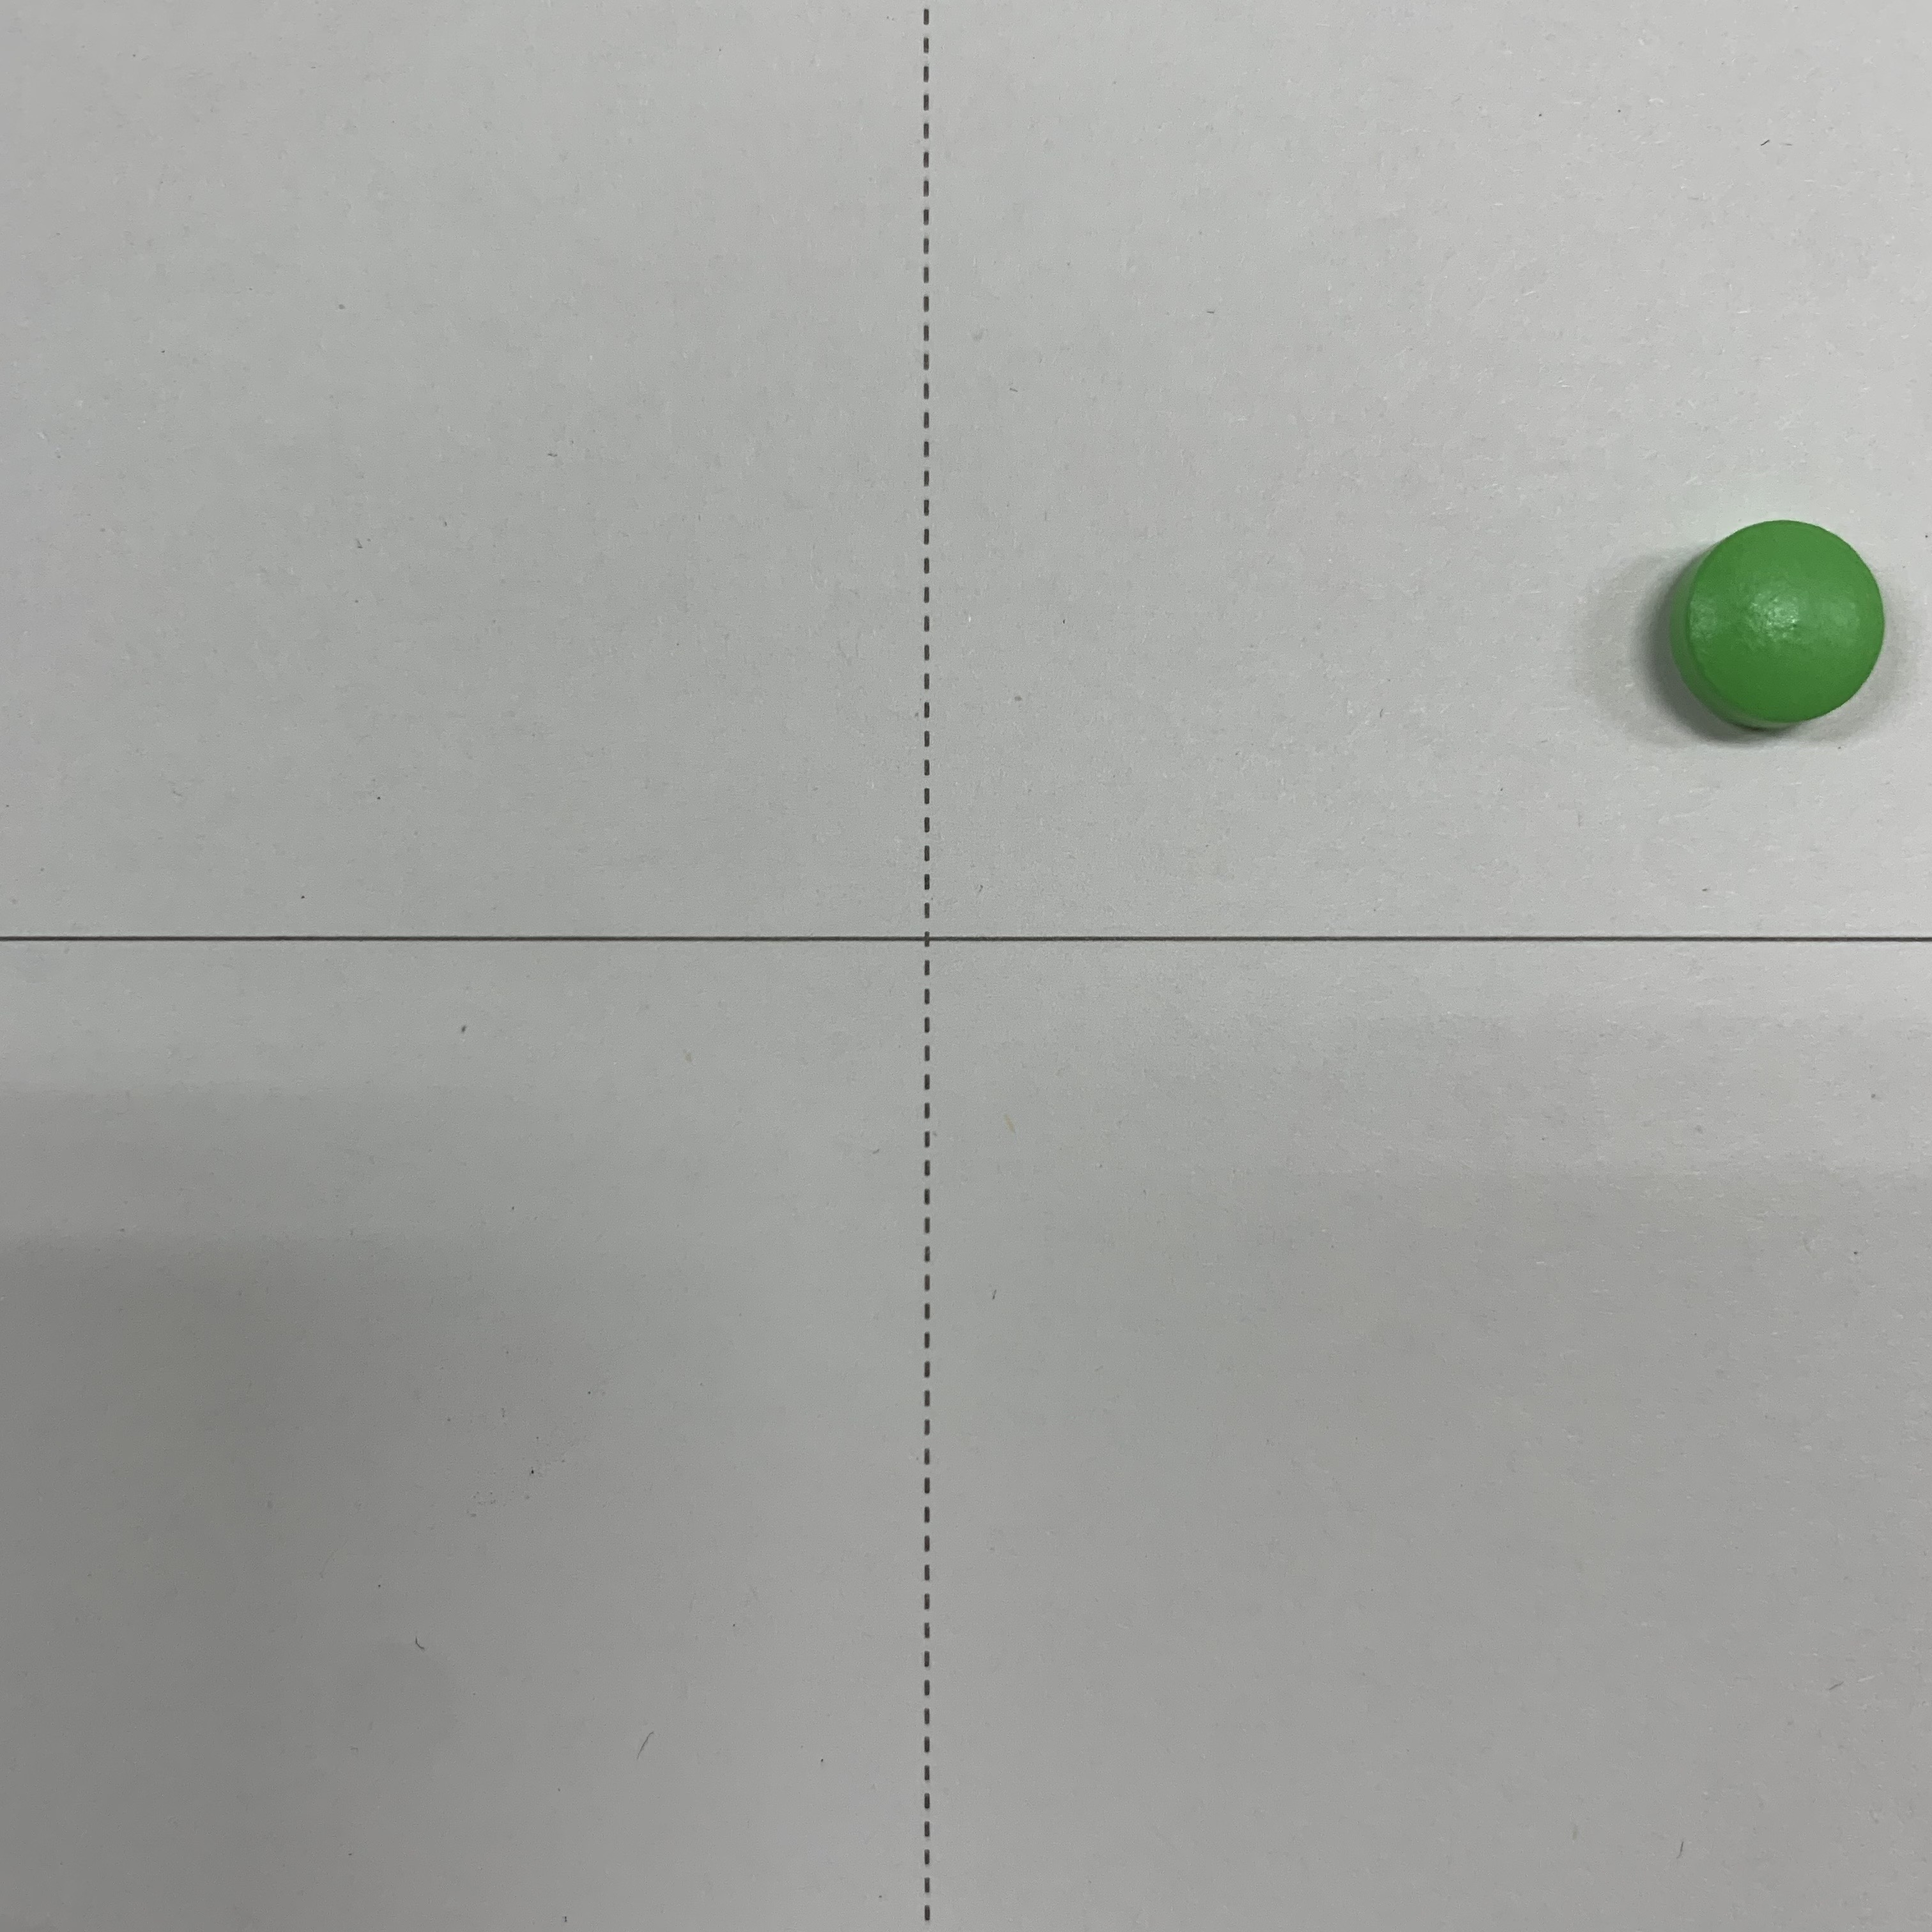cir_drug: (1628, 495, 1911, 745)
